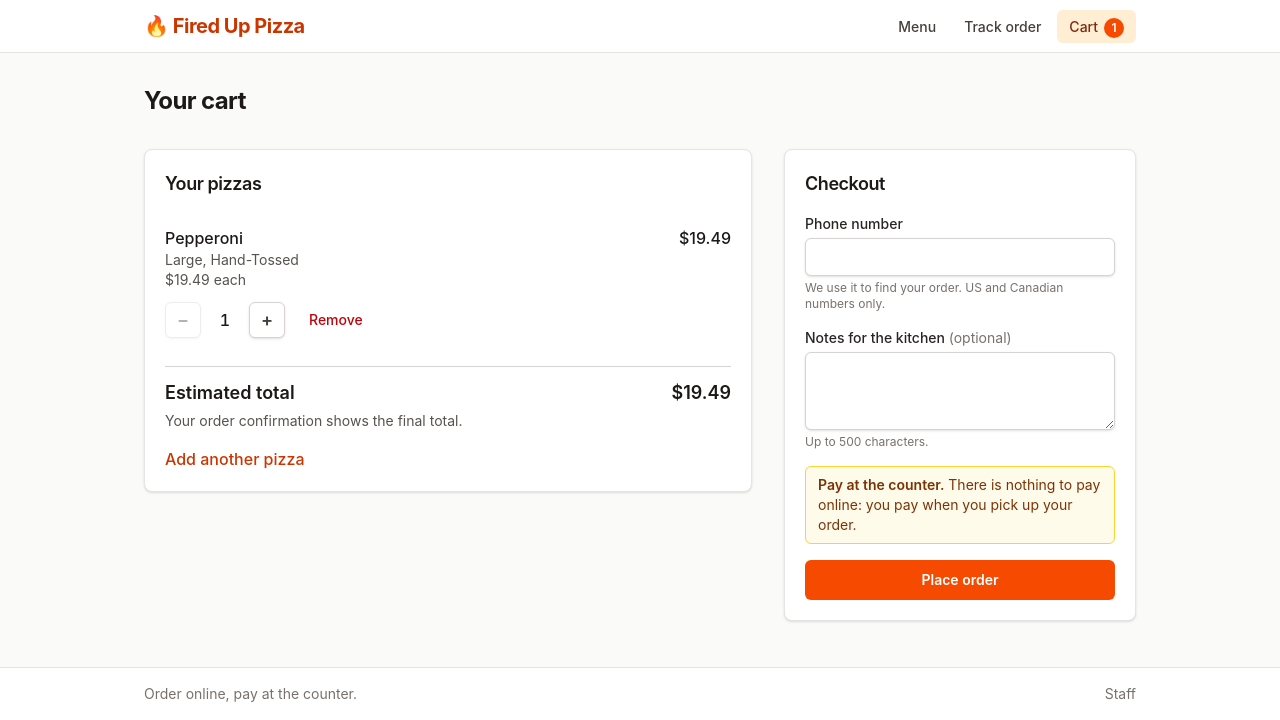
Test: CartPage › lines › shows the empty cart once the last line is removed, with focus on the page heading
Step 1. Click the button named "Remove Pepperoni" → (336, 320), box [301,306,371,334]
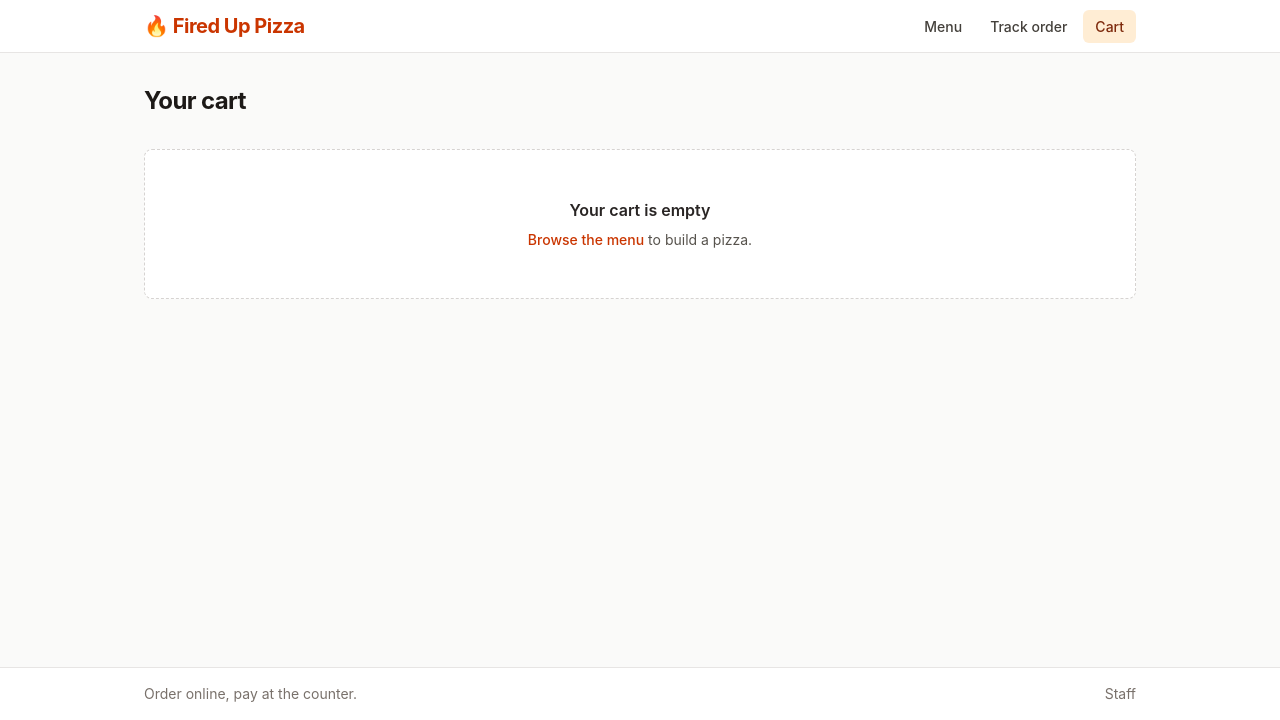
Now the message shows "Your cart is empty", box [570,200,710,220]
Now the heading "Checkout" is gone
